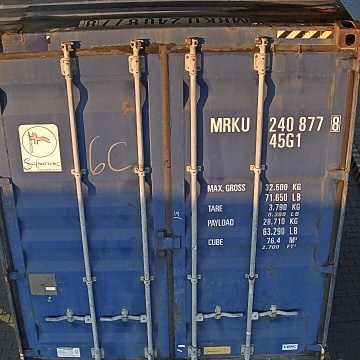serial_id: (210, 116, 340, 132)
